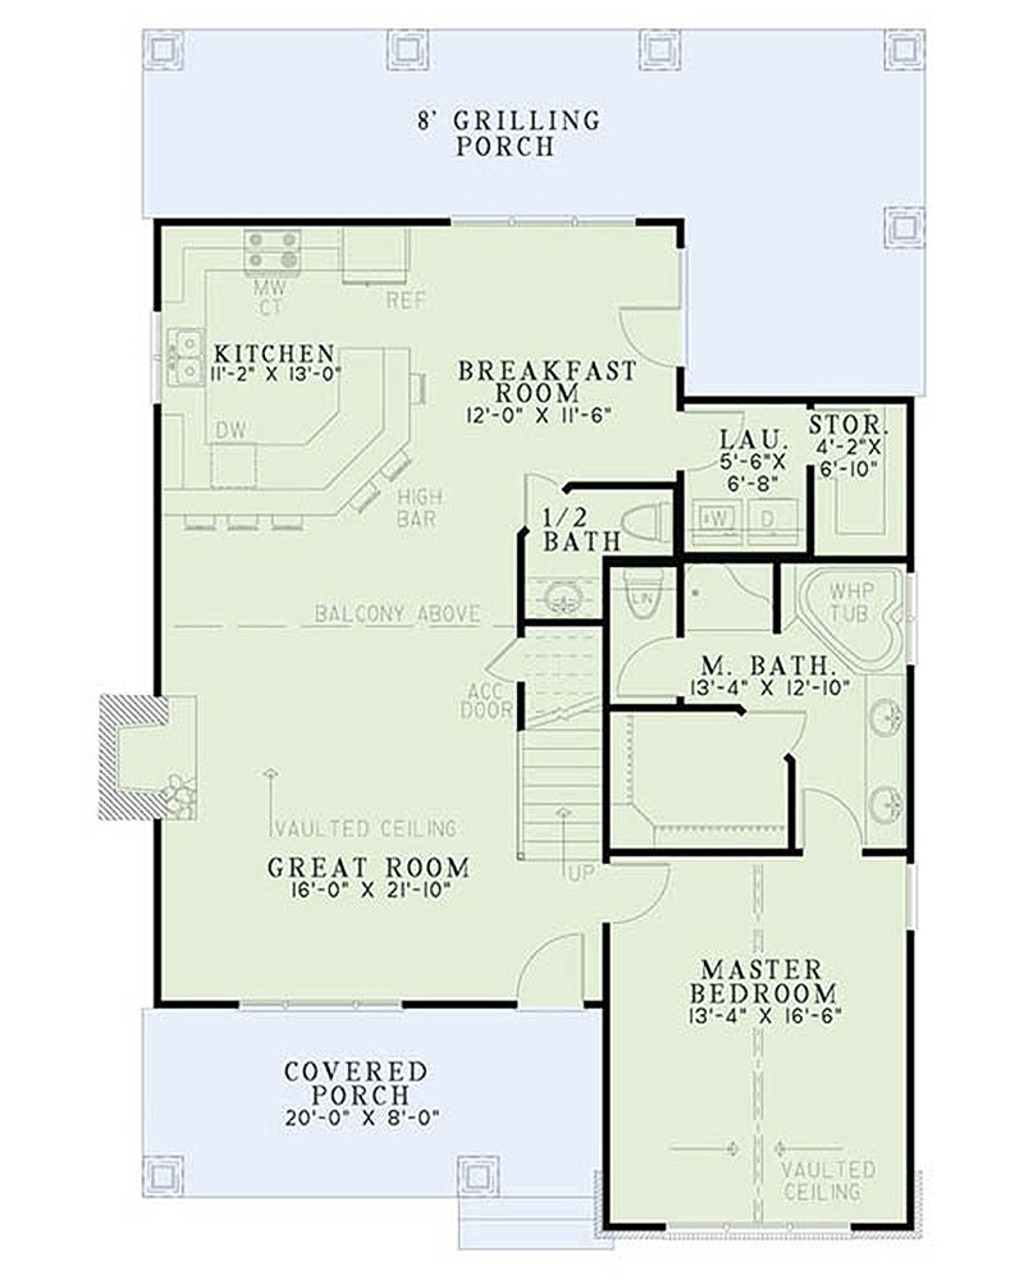door: (501, 935, 601, 1011), (599, 853, 679, 933), (605, 293, 689, 365), (811, 401, 881, 481), (616, 637, 701, 697), (679, 405, 747, 479), (797, 787, 863, 853), (519, 459, 579, 527), (745, 705, 813, 761), (489, 631, 527, 683)
kitchen_bar: (161, 357, 437, 594)
large_sink: (589, 491, 677, 557), (613, 567, 675, 631)
small_sink: (853, 675, 917, 857), (517, 577, 601, 623)
stairs: (519, 635, 601, 863)
twin_sink: (157, 321, 229, 391)
